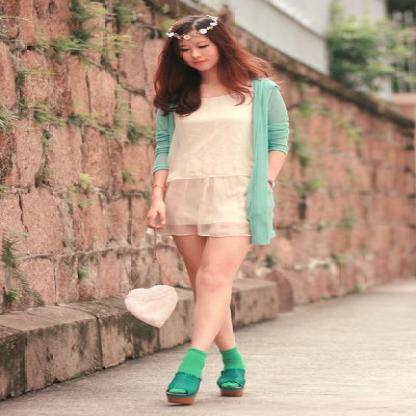dress: (167, 93, 253, 236)
jacket: (151, 77, 290, 244)
shoe: (166, 368, 244, 406)
